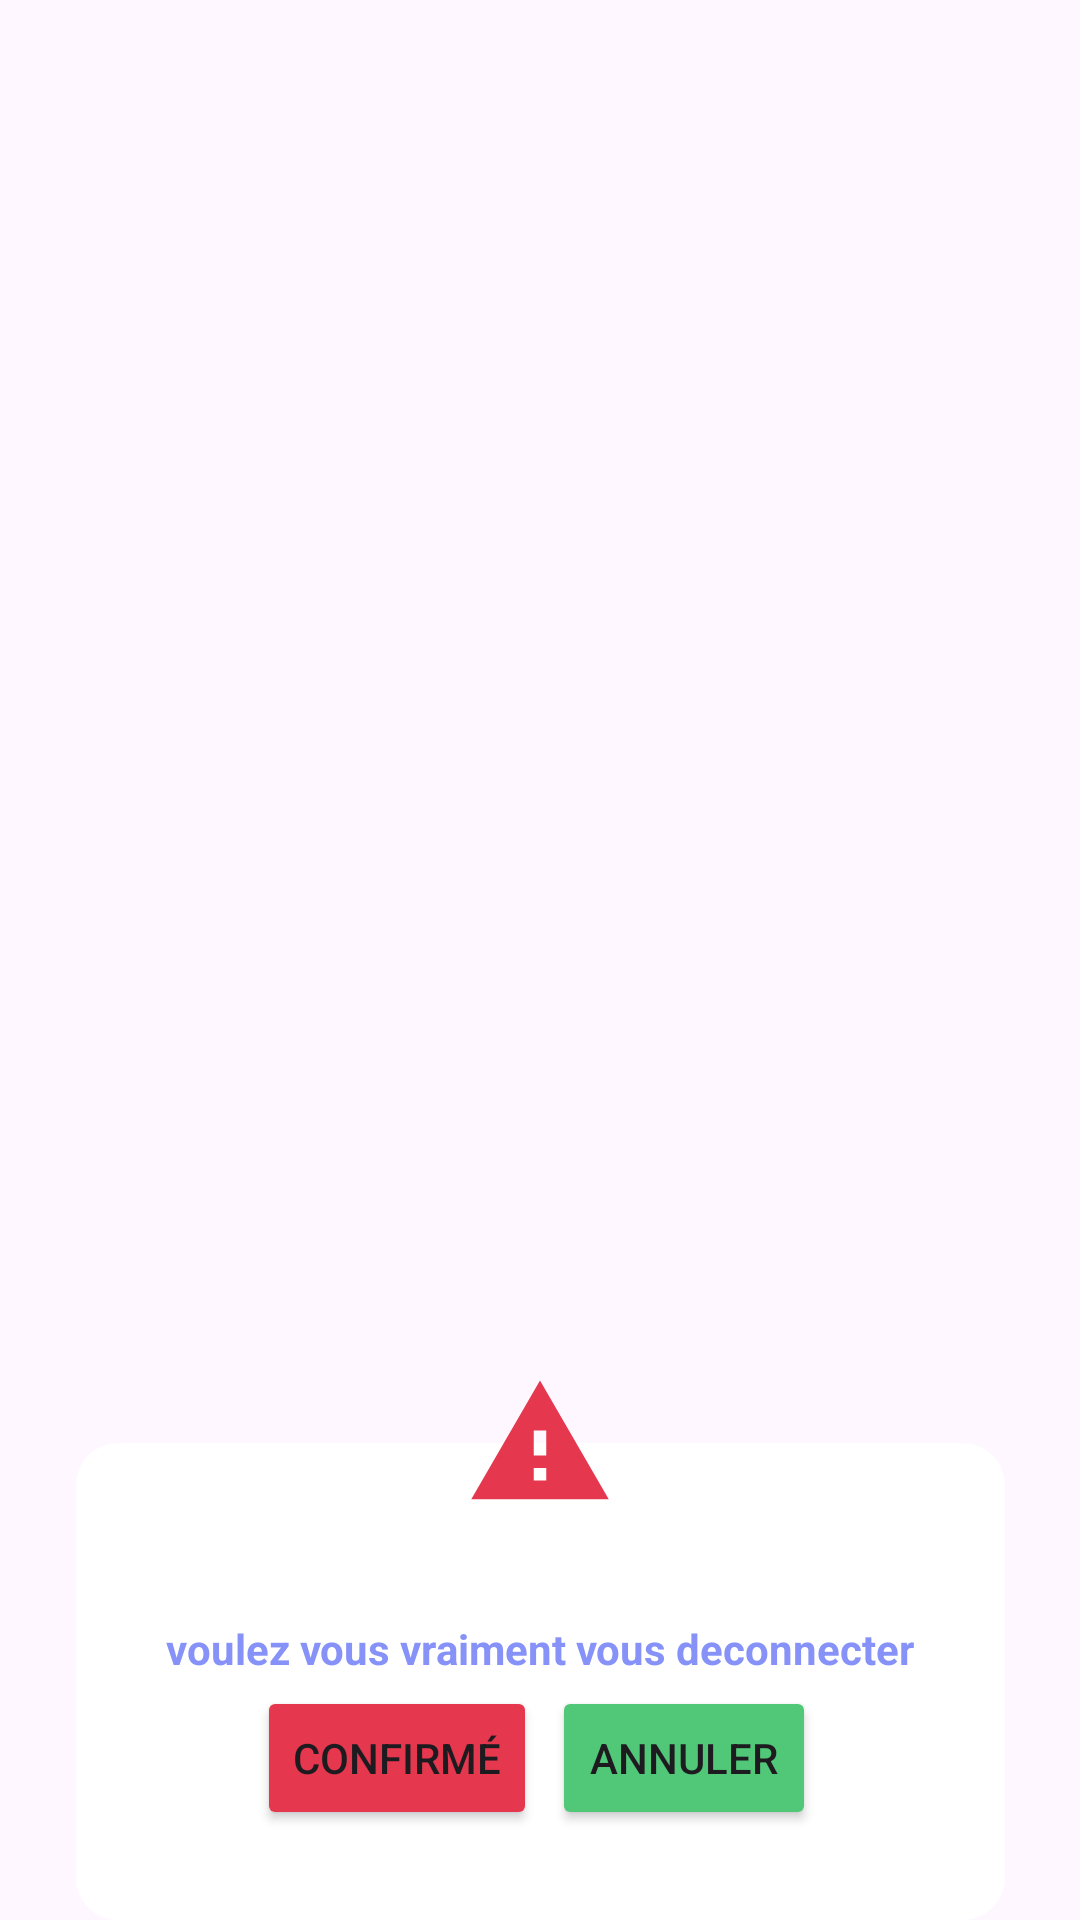

Icon click points for this 1080×1920 phone screenshot, format (x=x, y=y):
warning: (x=540, y=1440)
